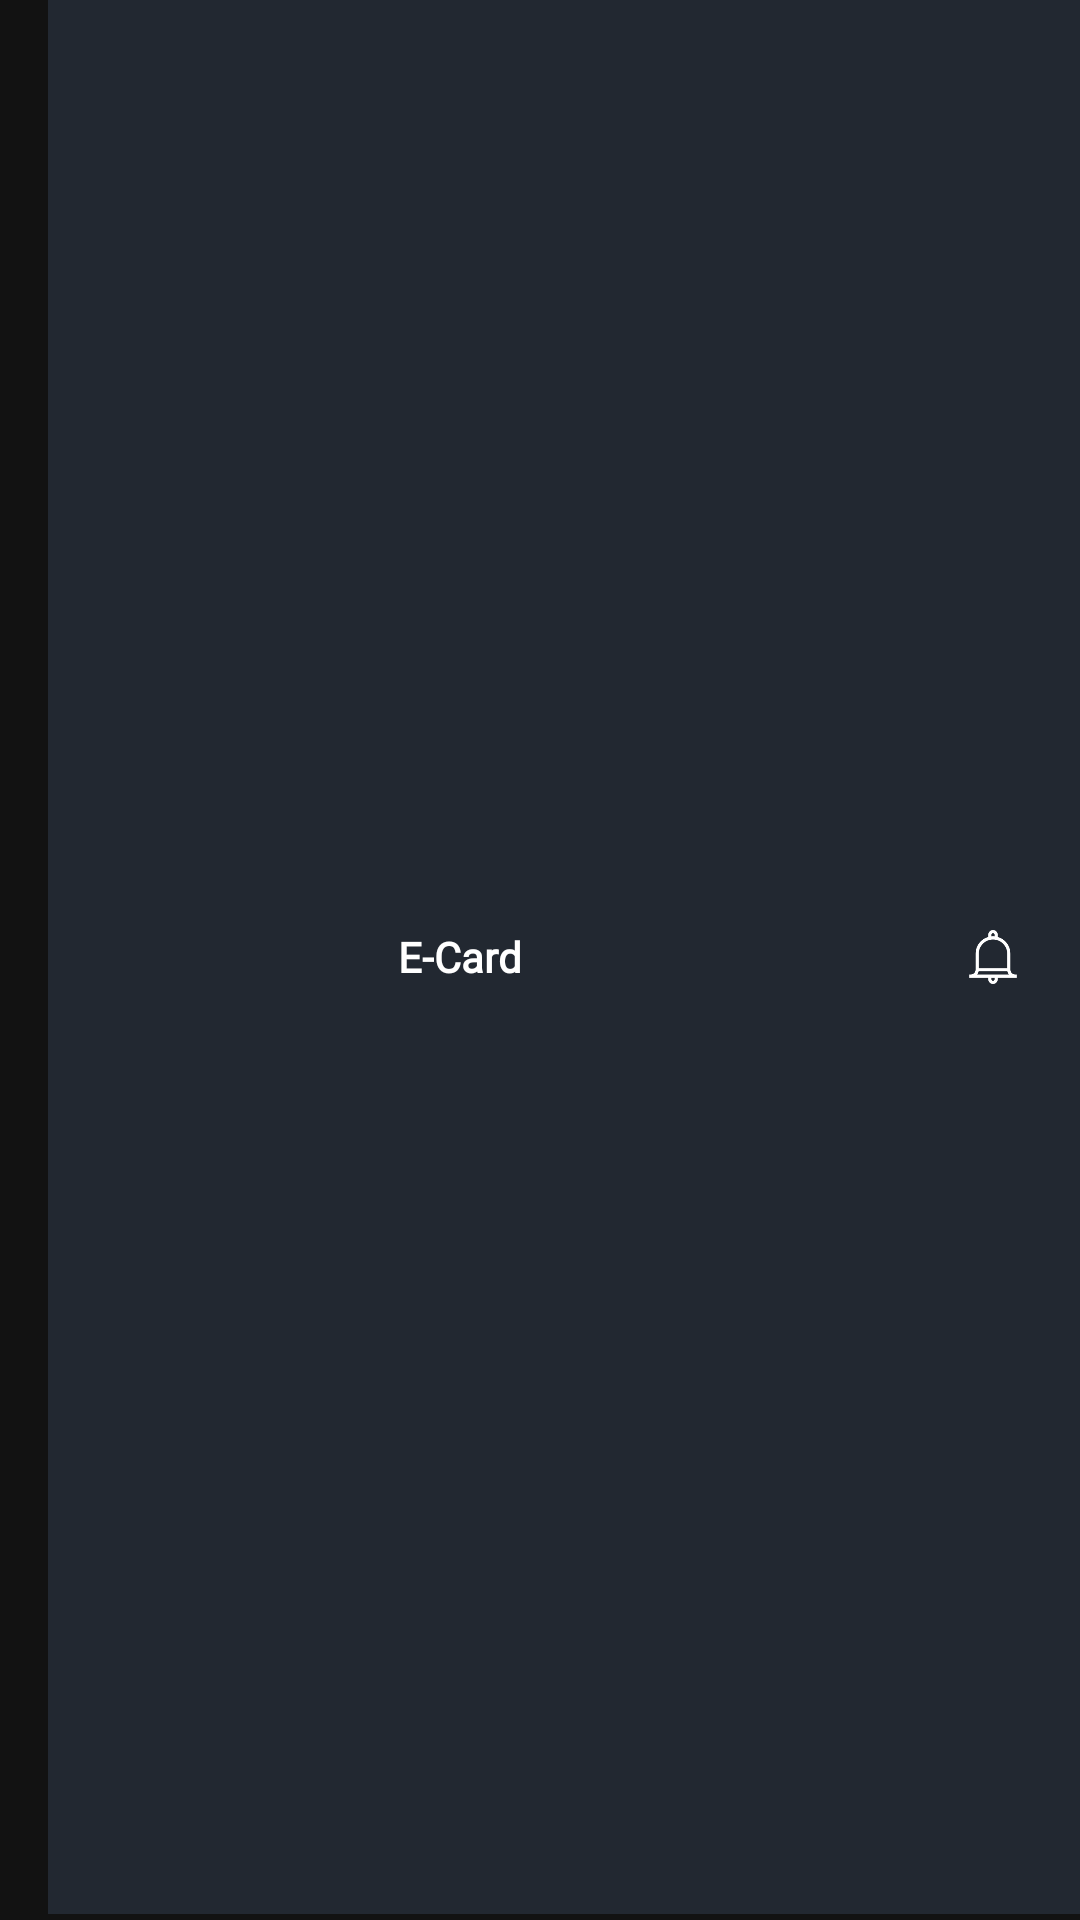

Where icons sit on this 1080px×1920px app screen, as (x1, y1, x2, y2):
notification: (969, 930, 1017, 984)
